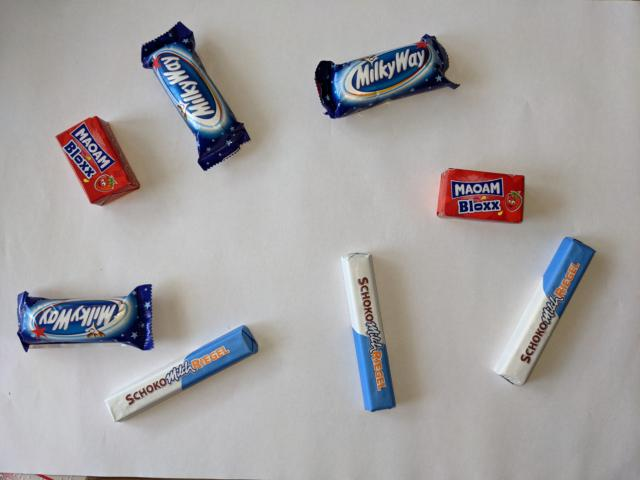MAOAM: (54, 114, 143, 208), (432, 165, 527, 227)
MilkyWay: (139, 19, 253, 173), (312, 31, 462, 121), (14, 280, 158, 356)
Schokoriegel: (488, 234, 599, 390), (99, 323, 263, 426), (338, 249, 400, 414)
